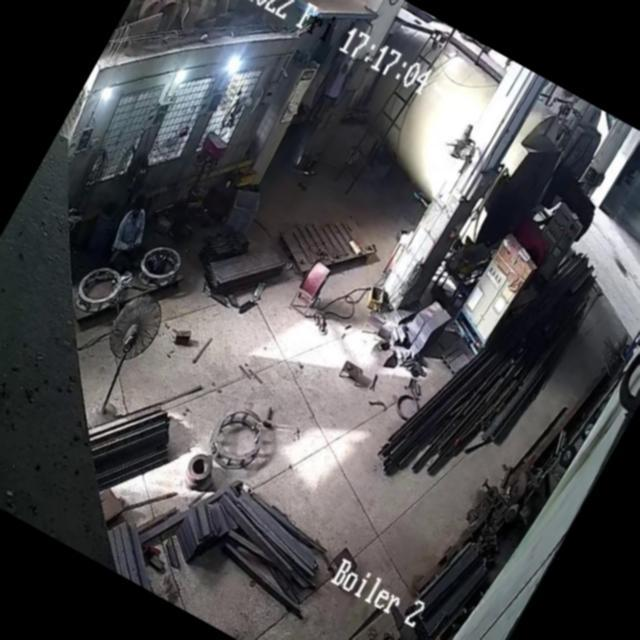person: (101, 193, 163, 271), (311, 58, 356, 126), (303, 57, 343, 116)
